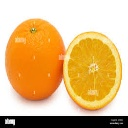orange: (6, 20, 65, 103)
